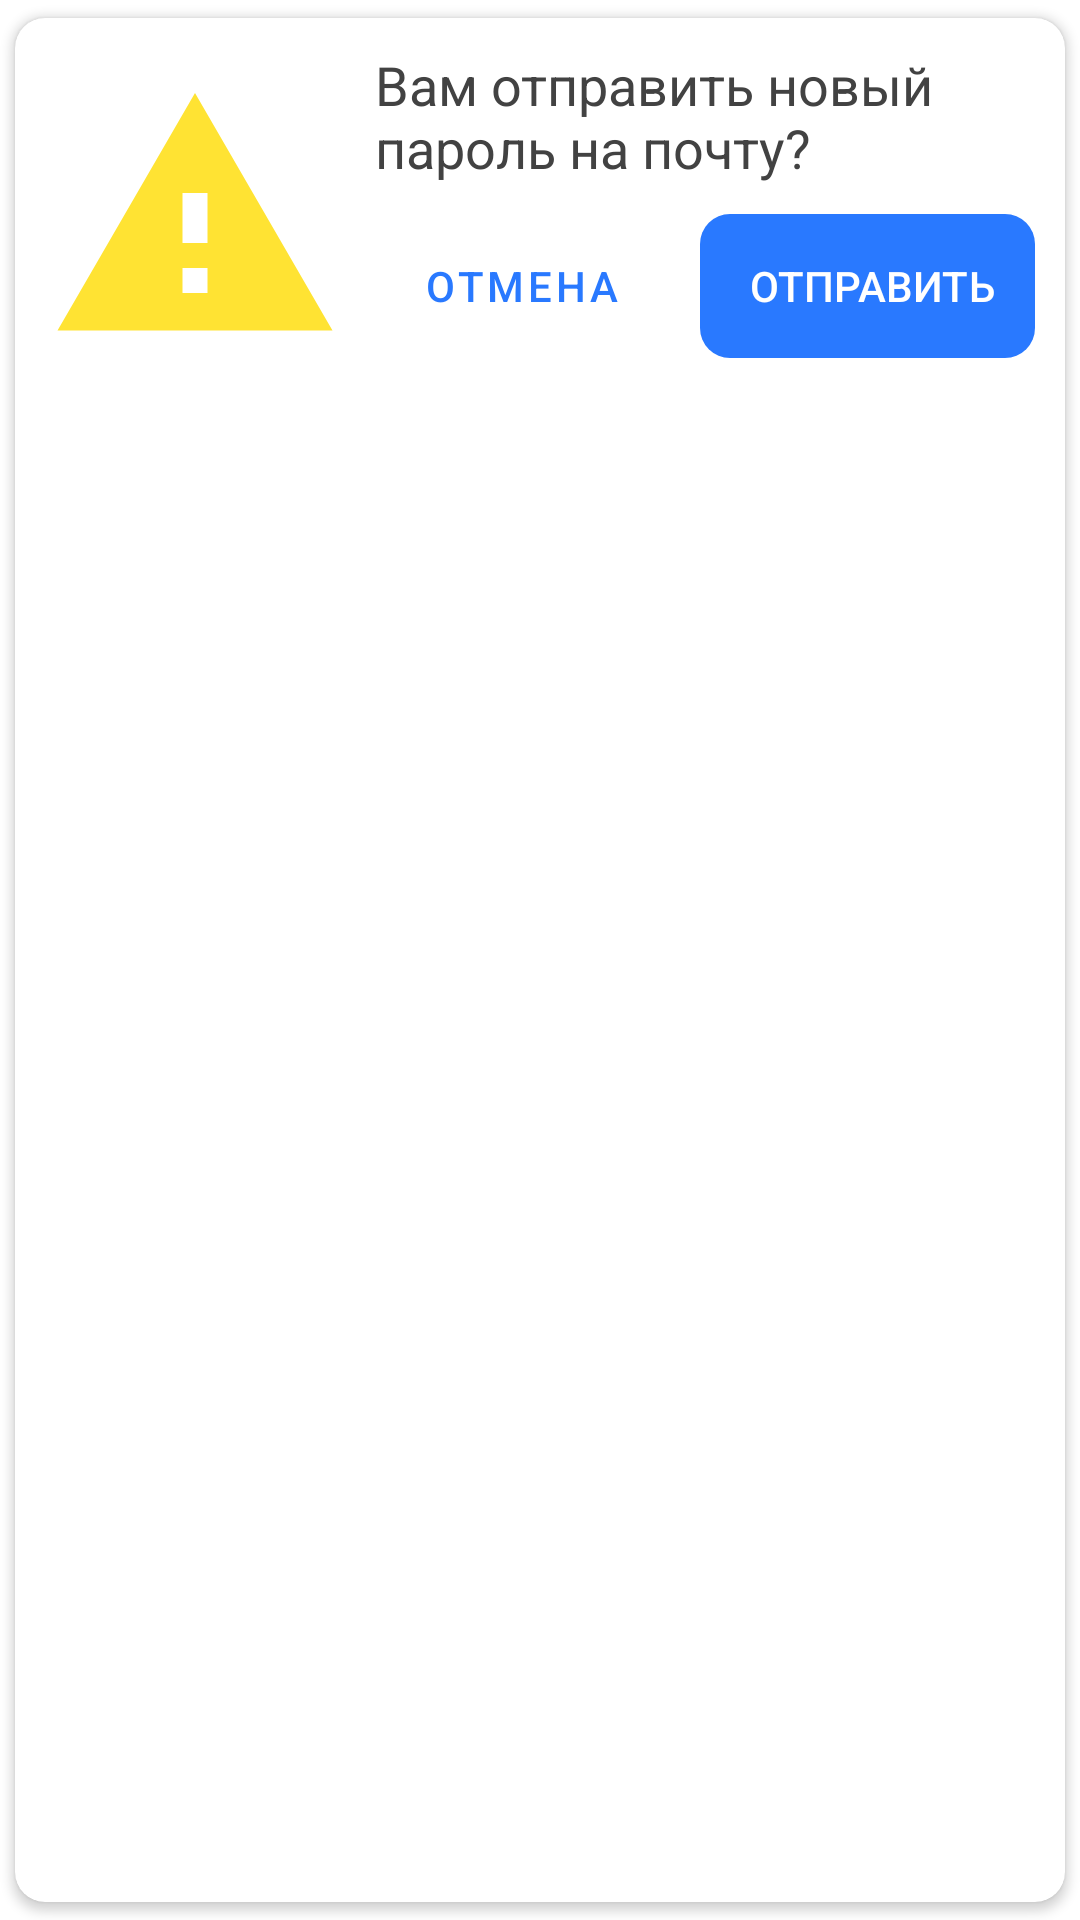

Locate icon controls on the screen. Image size 1080w x 1920h, boxes as (x1, y1, x2, y2).
attention: (57, 93, 333, 331)
